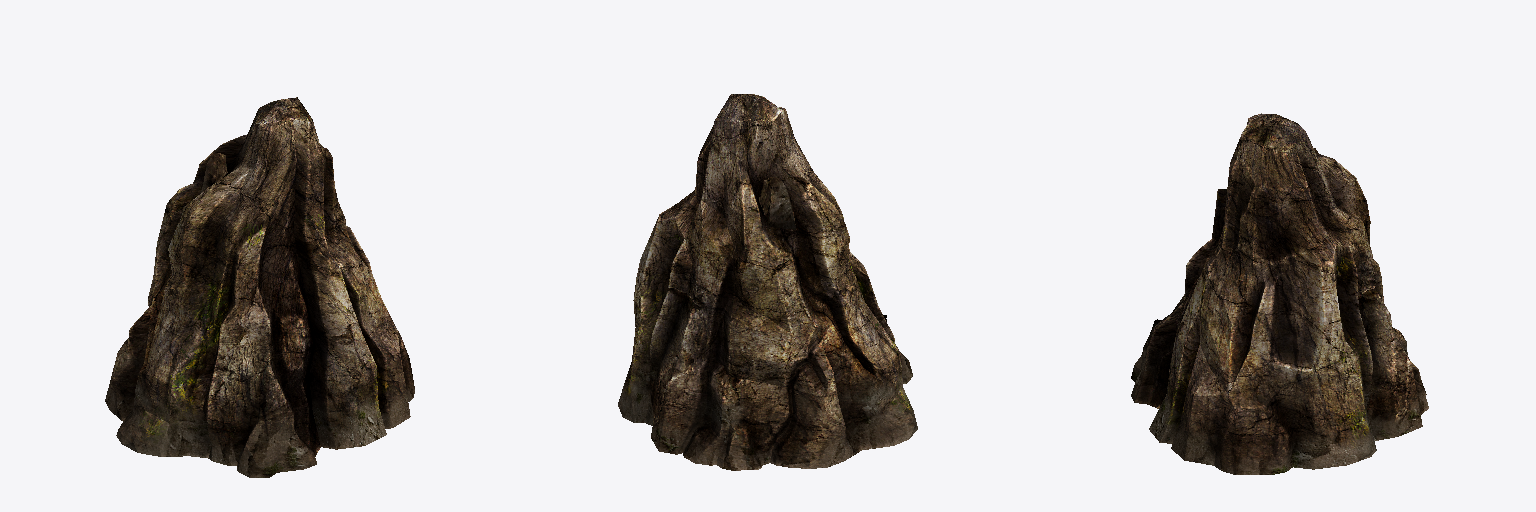
3 renders of one model, left to right at view 1: azimuth 30°, elevation 25°; view 2: azimuth 150°, elevation 25°; view 3: azimuth 270°, elevation 25°, orthographic.
Visible parts, largest first — view 1: Object.1; view 2: Object.1; view 3: Object.1.
Boxes of the visible parts, <box> form: Object.1: <box>105,97,414,477</box>; Object.1: <box>618,94,917,470</box>; Object.1: <box>1131,113,1428,474</box>.
Size of the model in its own units: 161 by 170 by 151.
1 materials, 1 textured.